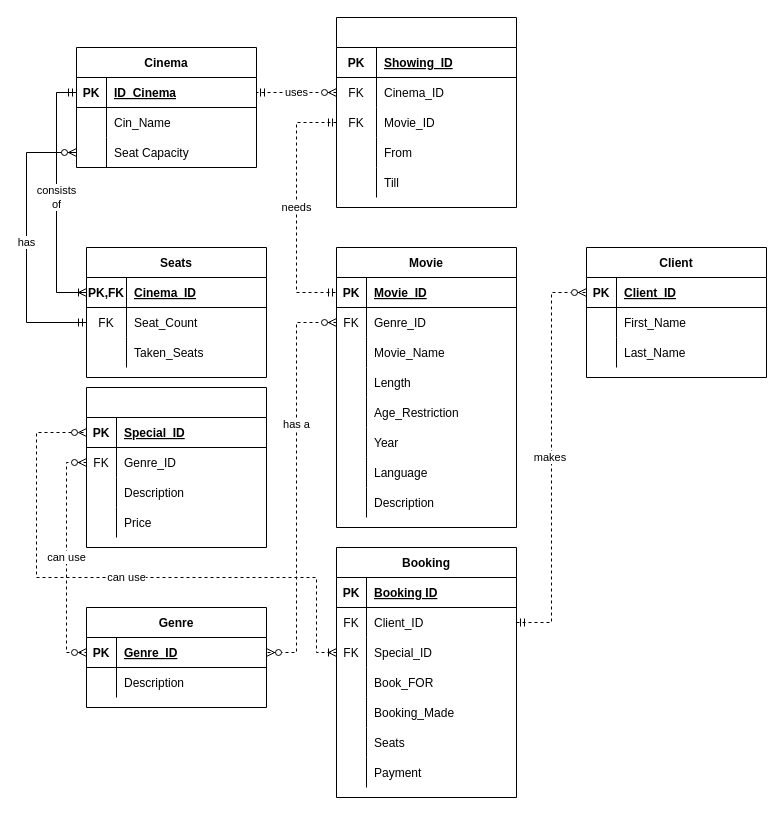
The diagram is 784 pixels wide and 815 high, and some of its shapes have lost their labels. Here are the shapes that lost their labels. From the top down, the box of each, then its label:
(336, 16, 516, 208): Show_Times
(86, 386, 266, 548): Specials
